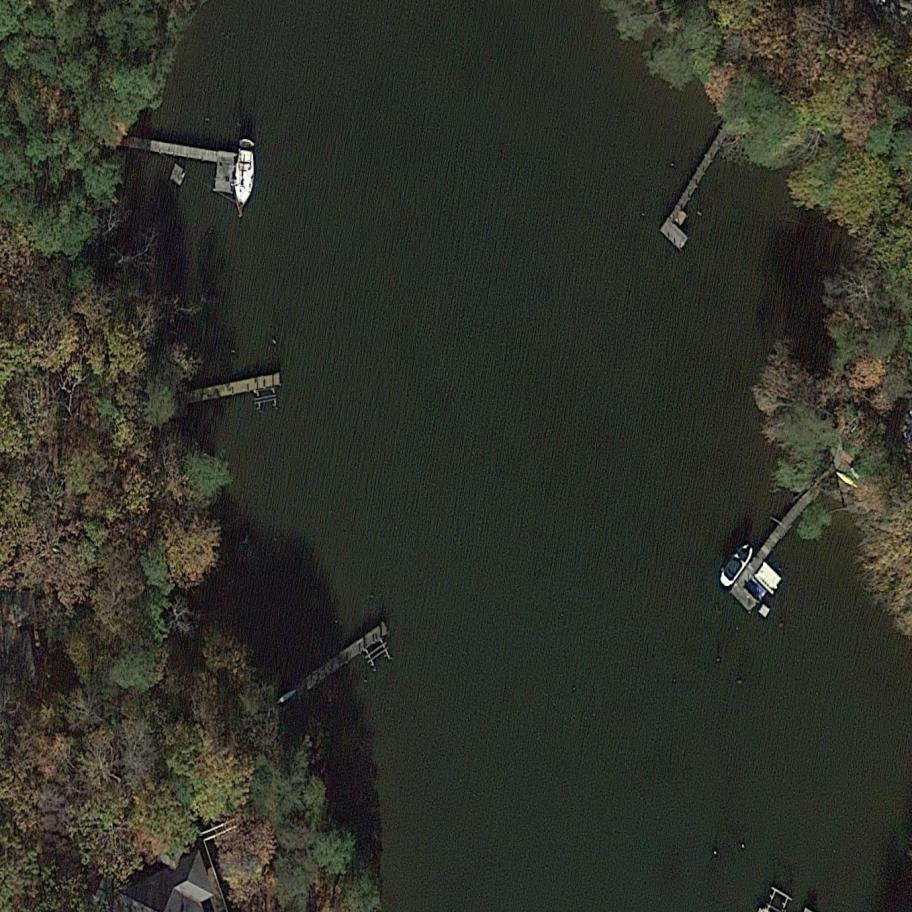ship: (713, 539, 761, 591), (230, 147, 261, 217), (751, 561, 786, 597)
